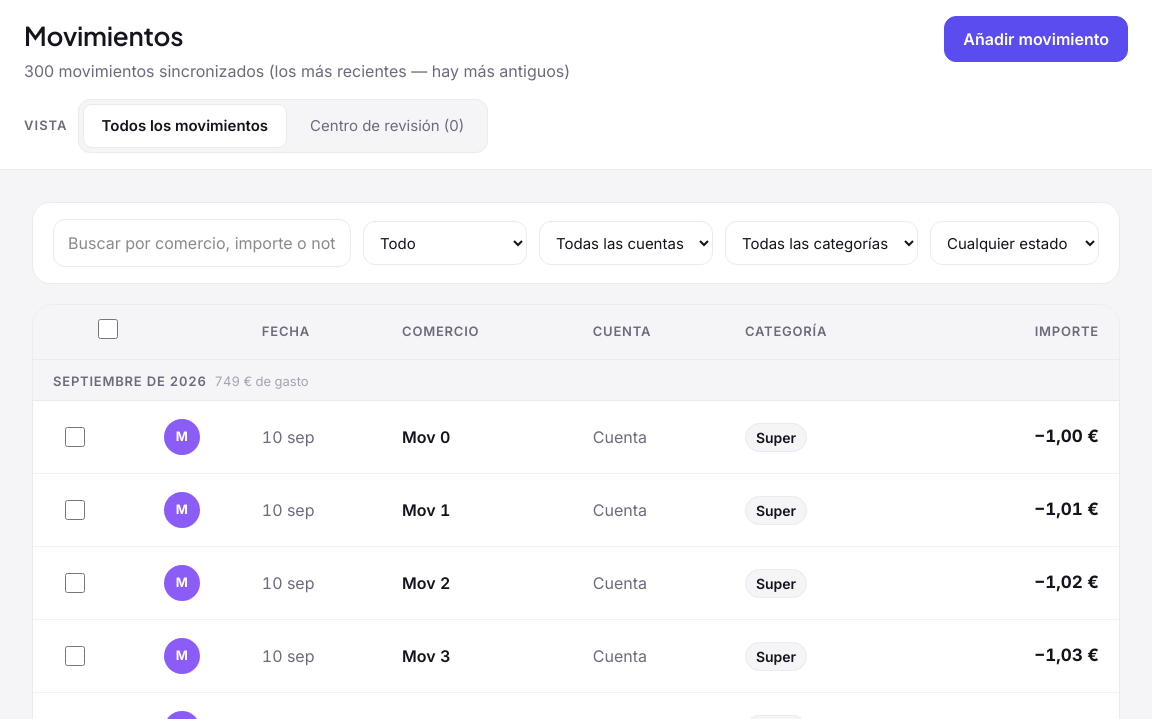
Test case: el Centro de revisión trabaja sobre el histórico entero › llegando desde la tabla, pulsar Centro de revisión también la trae
The width and height of the screenshot is (1152, 719).
expect the text "movimientos sincronizados" is shown: met, box [24, 61, 570, 81]
Click the button "Centro de revisión (0)".
click(387, 126)  # box [291, 104, 483, 148]
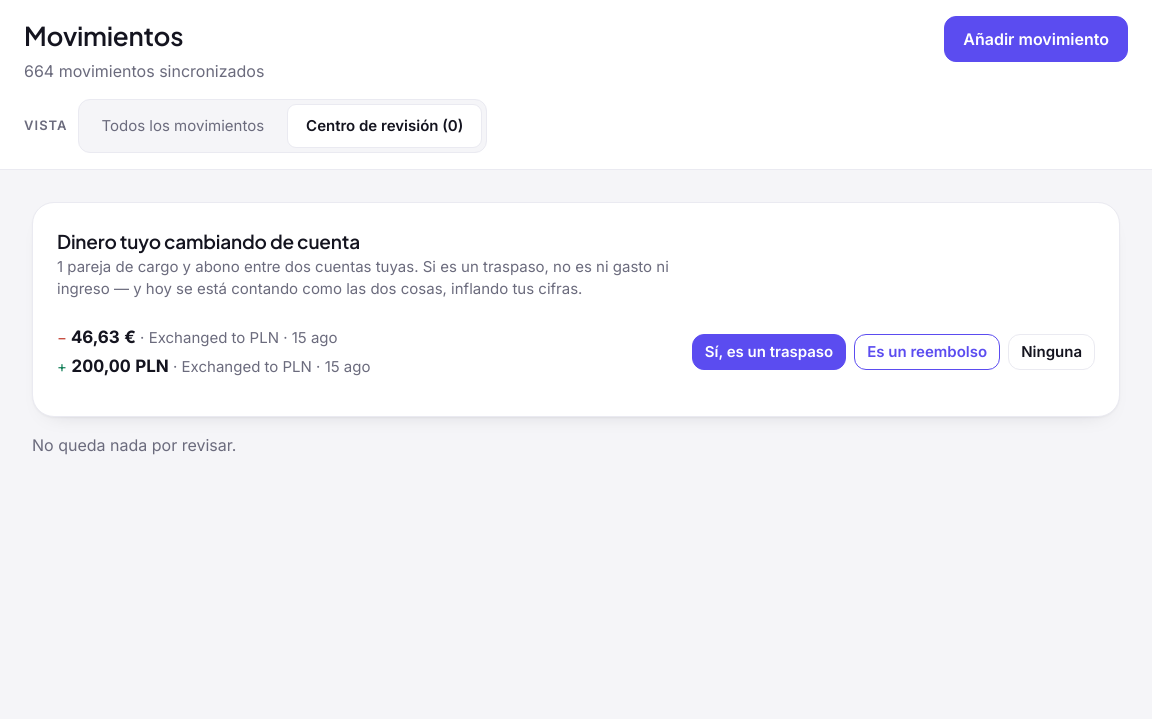
expect the text "200,00 PLN" is shown: met, box [71, 356, 169, 376]
